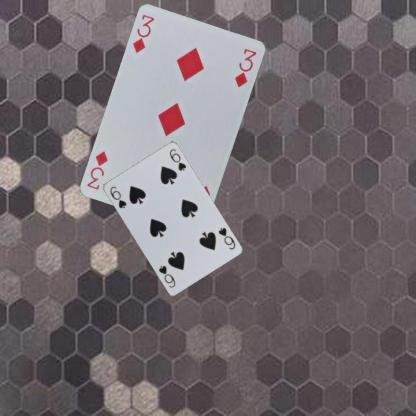3d: (130, 12, 156, 55)
6s: (107, 184, 128, 209), (216, 225, 236, 251)
